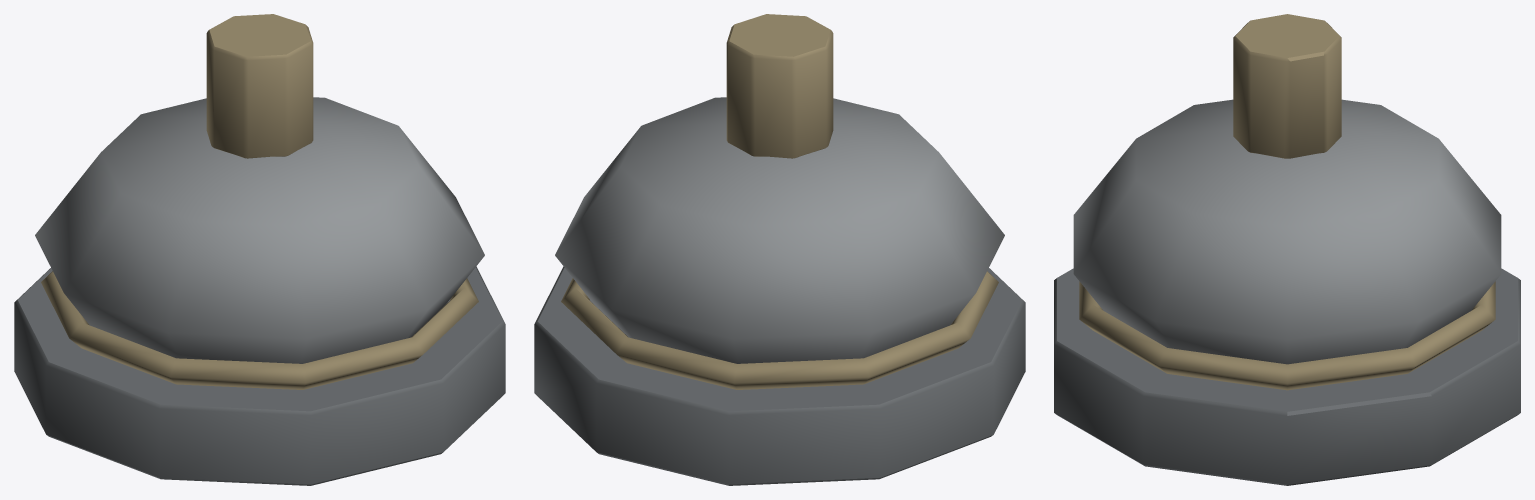
The model's file is counter_bell_low.glb.
3 renders of one model, left to right at view 1: azimuth 30°, elevation 25°; view 2: azimuth 150°, elevation 25°; view 3: azimuth 270°, elevation 25°, orthographic.
Size of the model in its own units: 0.24 by 0.1875 by 0.2283.
